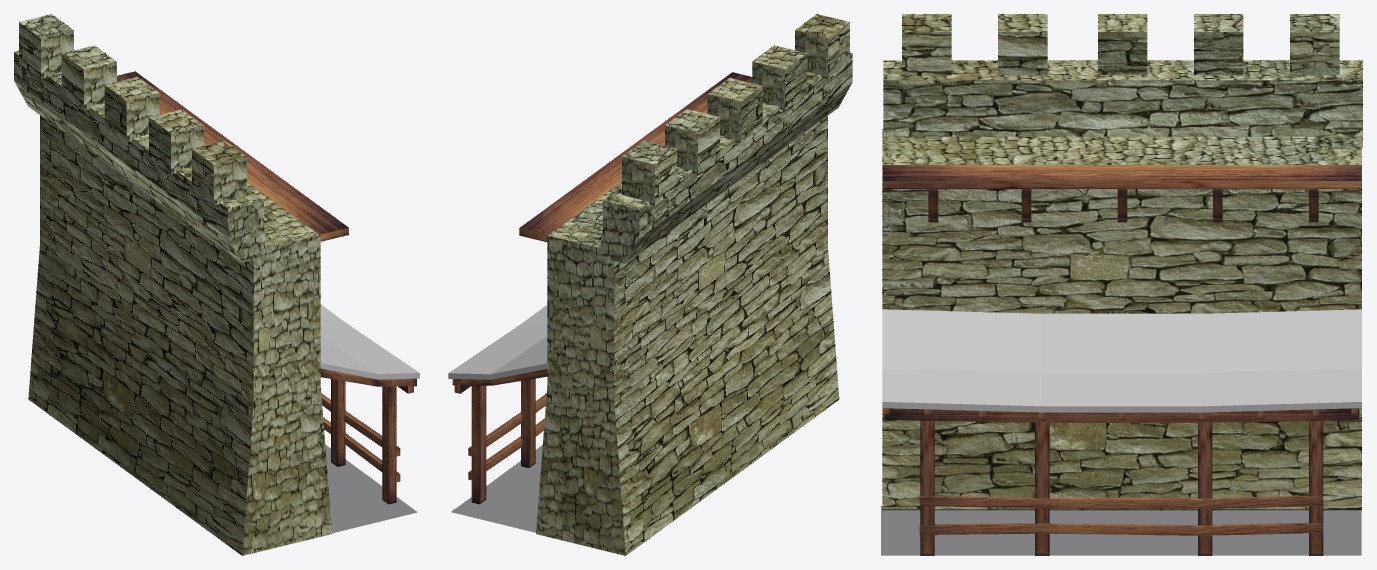
The model's file is WallLeanTo1.obj.
3 views of the same model, side by side, from view 1: azimuth 30°, elevation 25°; view 2: azimuth 150°, elevation 25°; view 3: azimuth 270°, elevation 25° (orthographic). The views are drawn at different scales.
Parts seen in each view (by area): view 1: limestone, floor, roof, shadow; view 2: limestone, floor, roof, shadow; view 3: limestone, roof, floor, shadow.
Boxes of the visible parts, left/top/right/bottom form: limestone: left=14, top=14, right=332, bottom=555; floor: left=117, top=71, right=416, bottom=504; roof: left=320, top=304, right=419, bottom=379; shadow: left=325, top=445, right=417, bottom=534; limestone: left=536, top=14, right=852, bottom=555; floor: left=452, top=72, right=752, bottom=504; roof: left=448, top=305, right=549, bottom=379; shadow: left=451, top=445, right=542, bottom=532; limestone: left=882, top=14, right=1362, bottom=510; roof: left=882, top=309, right=1361, bottom=412; floor: left=882, top=165, right=1361, bottom=555; shadow: left=881, top=506, right=1361, bottom=555.
Bounding box in the file's own units: 40.58 × 76.74 × 76.59.
